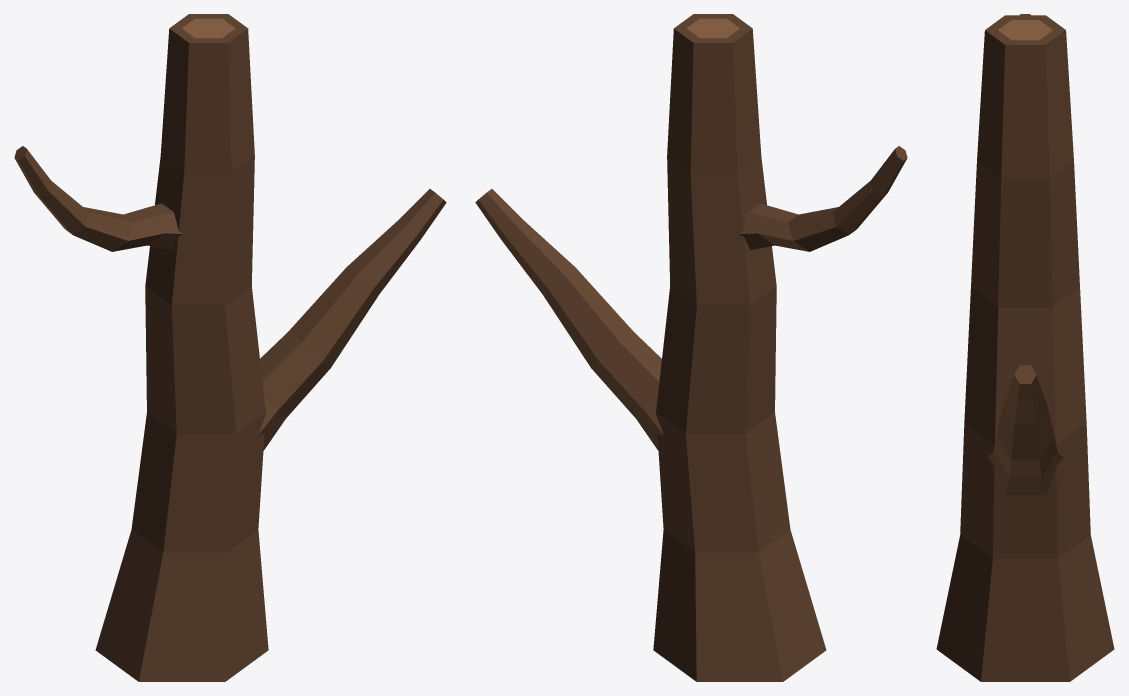
The model's file is SPW_Natures_Tree_Dead_02.glb.
3 renders of one model, left to right at view 1: azimuth 30°, elevation 25°; view 2: azimuth 150°, elevation 25°; view 3: azimuth 270°, elevation 25°, orthographic. The views are drawn at different scales.
Visible parts, largest first — view 1: SPW_Natures_Tree_Dead_02; view 2: SPW_Natures_Tree_Dead_02; view 3: SPW_Natures_Tree_Dead_02.
Part boxes in pixels (left/top/right/bottom): SPW_Natures_Tree_Dead_02: left=14, top=14, right=446, bottom=681; SPW_Natures_Tree_Dead_02: left=475, top=14, right=907, bottom=681; SPW_Natures_Tree_Dead_02: left=936, top=14, right=1114, bottom=681.
Bounding box in the file's own units: 1.9 × 2.62 × 0.6671.
1 material, 1 textured.
